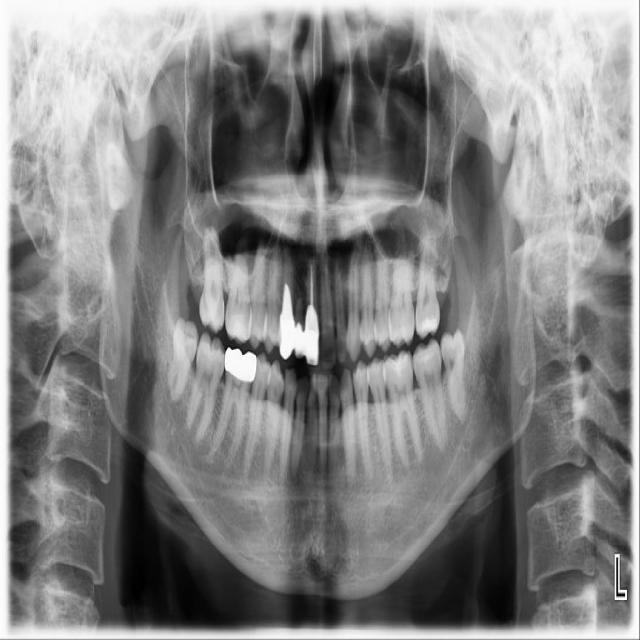52: (275, 282, 327, 368), (216, 345, 261, 393), (413, 292, 443, 341)
73: (304, 257, 318, 319), (605, 594, 612, 606)
BioHorizons Implant: (412, 215, 442, 340)
Biomet 3i Implant: (439, 327, 467, 424)
Blue Sky Bio Implant: (410, 337, 448, 447)
Caries: (199, 215, 224, 334)
Implant: (182, 330, 230, 442)
Keystone Dental Implant: (163, 316, 202, 403)
